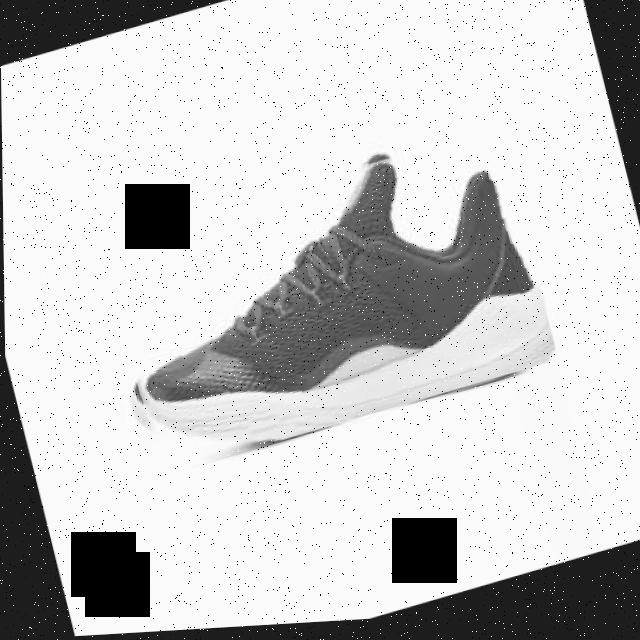shoe: (86, 121, 558, 483)
